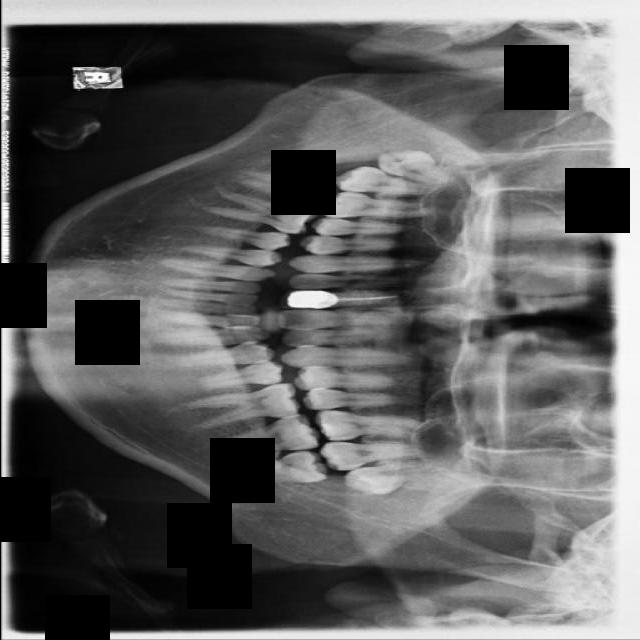3M ESPE Implant: (373, 142, 456, 187)
52: (282, 291, 337, 309)
73: (328, 287, 413, 308), (74, 592, 76, 604)
BioHorizons Implant: (320, 441, 423, 470)
BioLife Implant: (340, 456, 434, 500)
Biomet 3i Implant: (244, 451, 327, 483)
Blue Sky Bio Implant: (210, 412, 319, 461)
Caries: (333, 164, 442, 198)
Implant: (239, 170, 334, 209)
